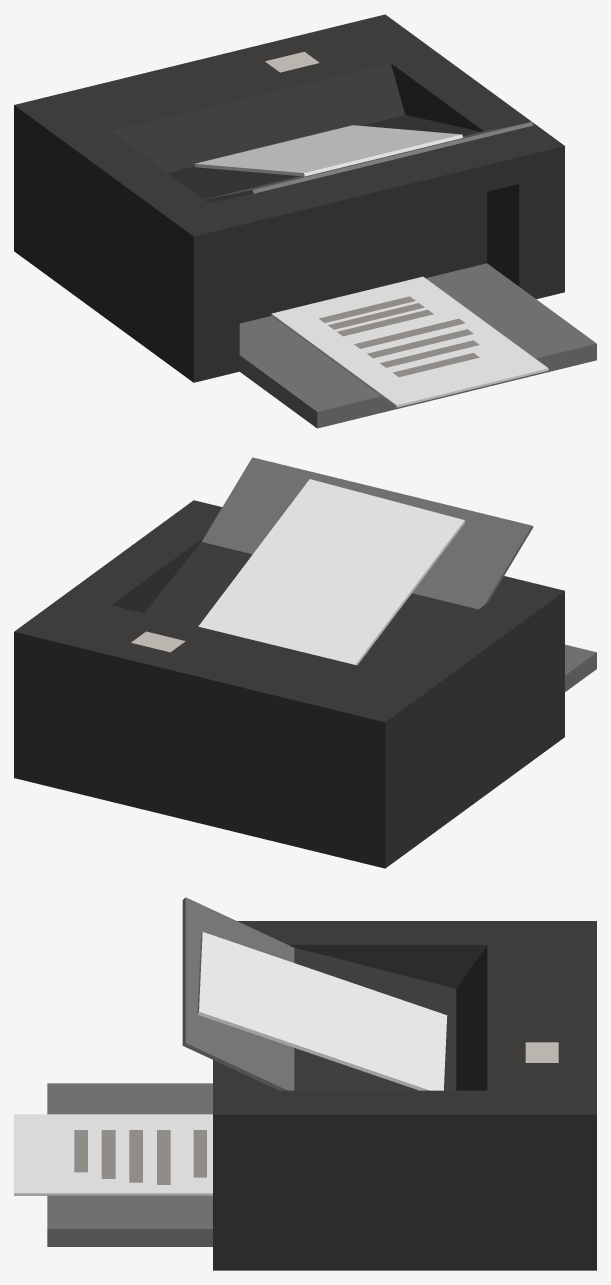
3 views of the same model, one above another, from view 1: azimuth 30°, elevation 25°; view 2: azimuth 150°, elevation 25°; view 3: azimuth 270°, elevation 25° (orthographic). The views are drawn at different scales.
Parts seen in each view (by area): view 1: dayinji:polySurface394; view 2: dayinji:polySurface394; view 3: dayinji:polySurface394.
Part boxes in pixels (x1,y1,x2,y2): dayinji:polySurface394: (14, 14, 596, 428); dayinji:polySurface394: (14, 457, 596, 868); dayinji:polySurface394: (14, 897, 596, 1270).
Size of the model in its own units: 33.96 by 16.69 by 43.25.
